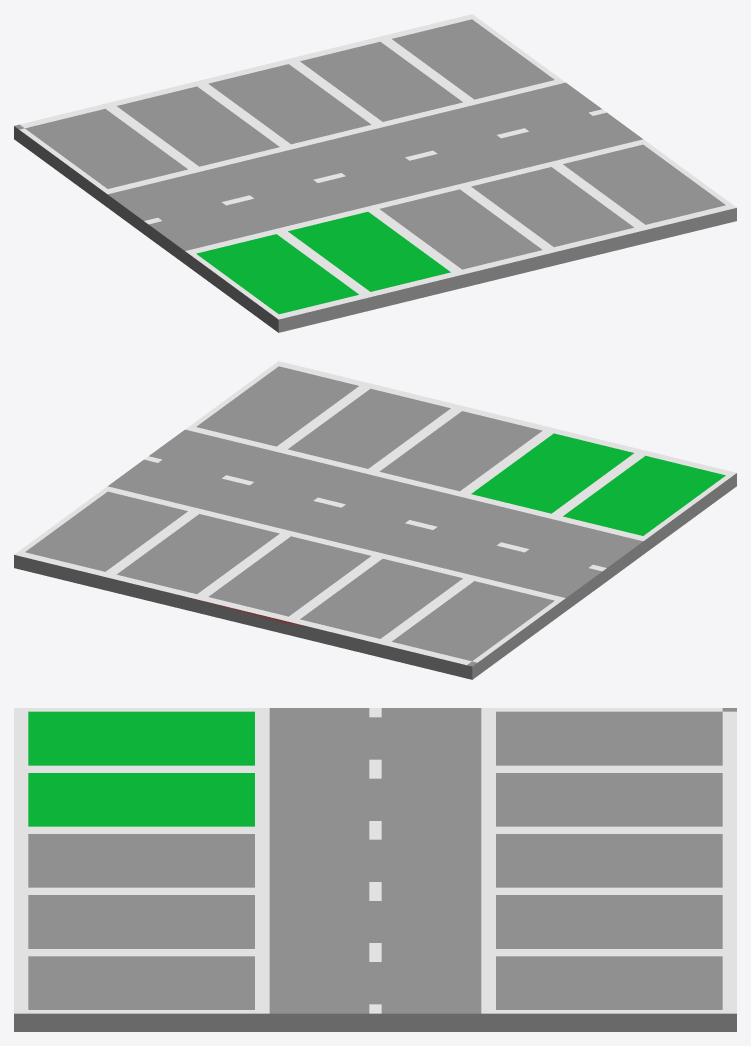
File: Parking Lot.FBX
The picture shows the model from 3 angles, top to bottom: view 1: azimuth 30°, elevation 25°; view 2: azimuth 150°, elevation 25°; view 3: azimuth 270°, elevation 25°; orthographic projection. The views are drawn at different scales.
Parts seen in each view (by area): view 1: Parking lot; view 2: Parking lot; view 3: Parking lot.
Part boxes in pixels (left/top/right/bottom): Parking lot: left=14, top=14, right=736, bottom=332; Parking lot: left=14, top=361, right=736, bottom=679; Parking lot: left=14, top=708, right=736, bottom=1031.
Bounding box in the file's own units: 709 × 19.69 × 709.
Materials: 1 (1 with a texture image).
